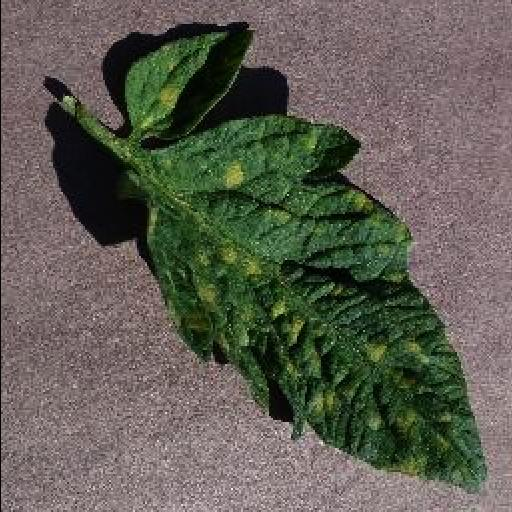disease_tomato: (116, 23, 490, 496)
